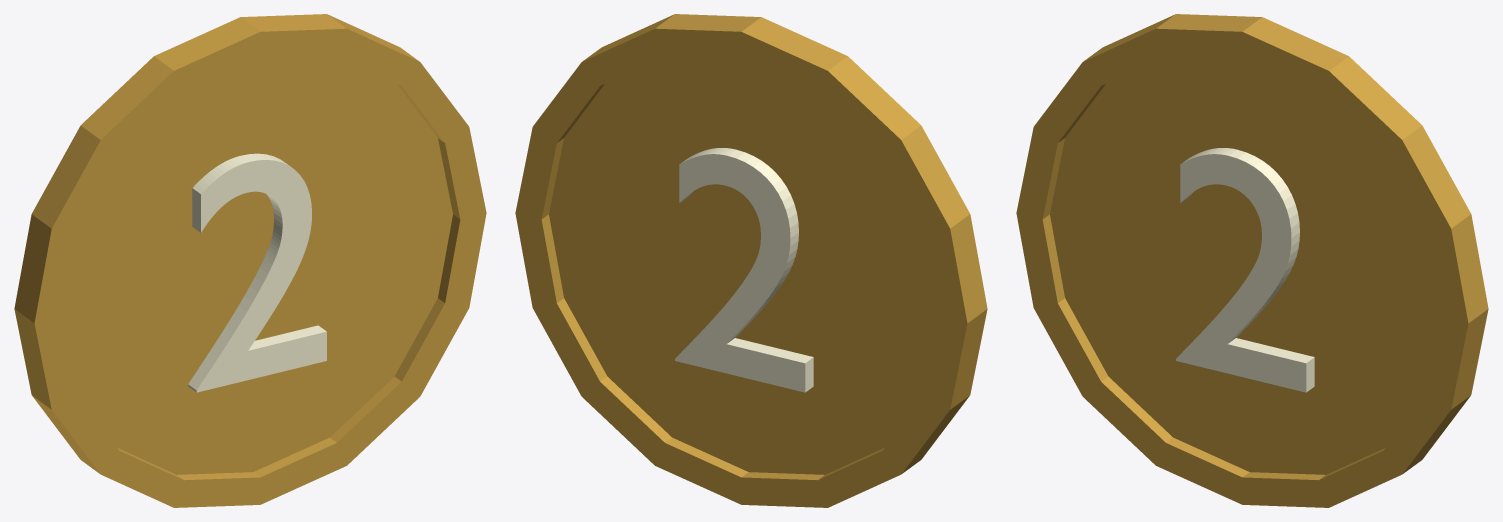
The model's file is Coin2.dae.
The picture shows the model from 3 angles, left to right: view 1: azimuth 30°, elevation 25°; view 2: azimuth 150°, elevation 25°; view 3: azimuth 330°, elevation 25°; orthographic projection.
Parts seen in each view (by area): view 1: Circle_004, Text_004; view 2: Circle_004, Text_020; view 3: Circle_004, Text_004.
Part boxes in pixels (x1,y1,x2,y2): Circle_004: (14,14,486,507); Text_004: (188,153,326,392); Circle_004: (515,14,987,507); Text_020: (675,148,813,392); Circle_004: (1016,14,1488,507); Text_004: (1176,148,1314,392).
Size of the model in its own units: 0.9666 by 0.0839 by 0.9666.
